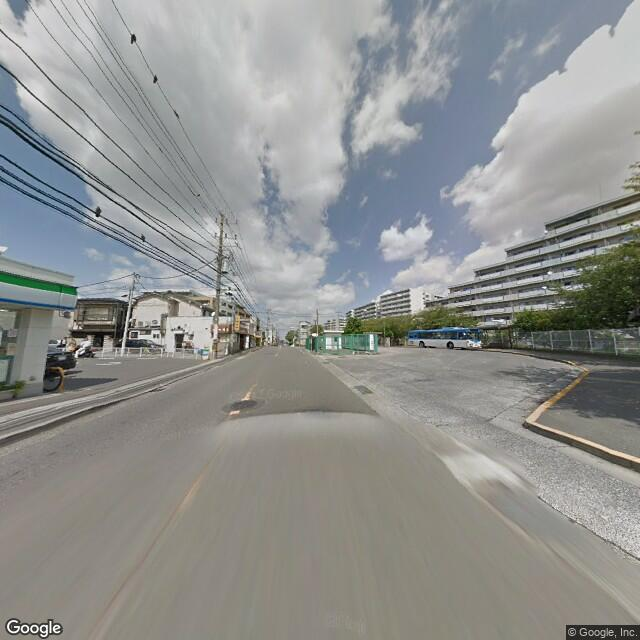family_mart: (1, 269, 79, 312)
